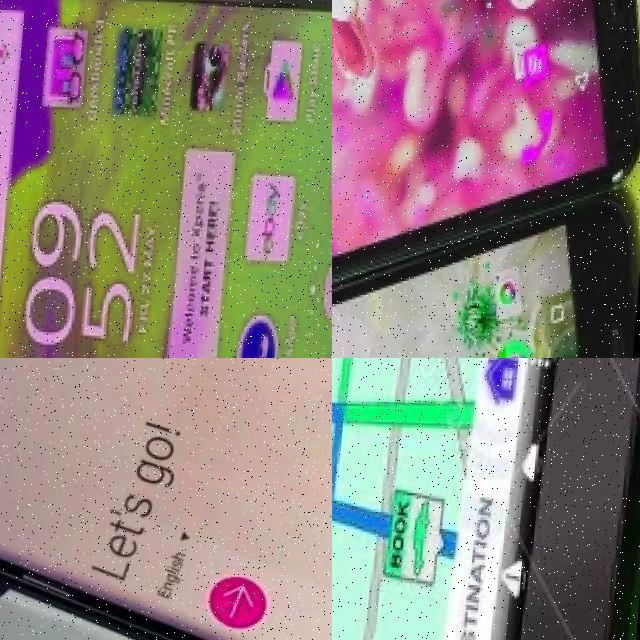dead pixel: (0, 522, 34, 625)
